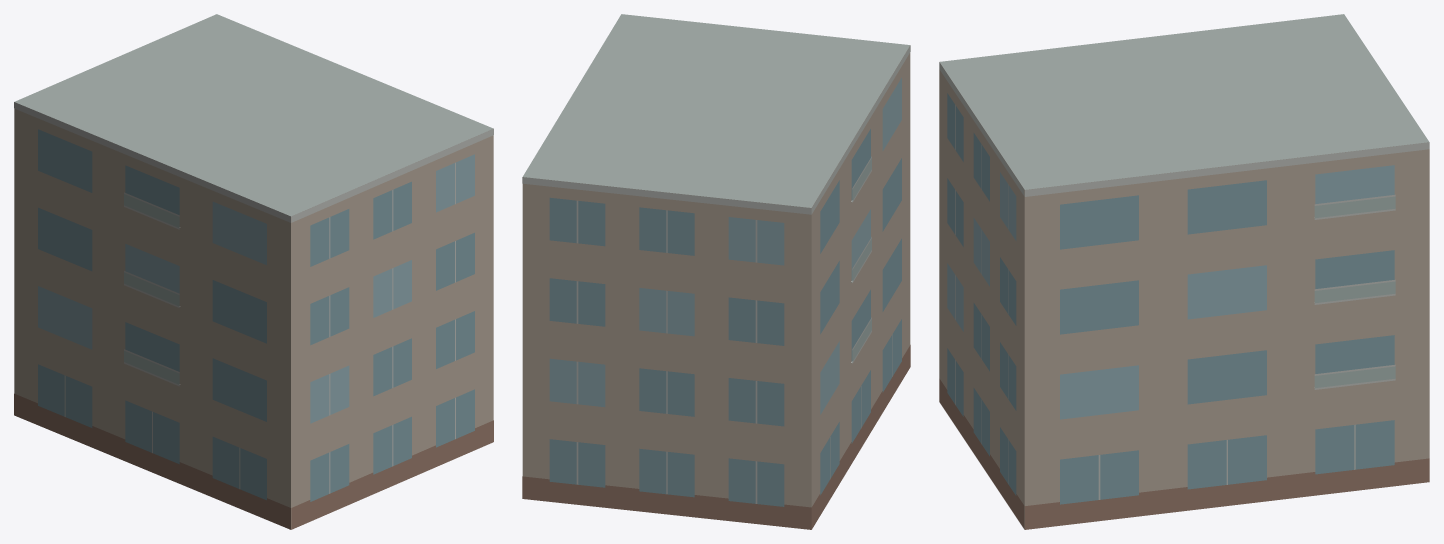
File: survey-upis-32924952.glb
The picture shows the model from 3 angles, left to right: view 1: azimuth 30°, elevation 25°; view 2: azimuth 150°, elevation 25°; view 3: azimuth 270°, elevation 25°; orthographic projection. The views are drawn at different scales.
Visible parts, largest first — view 1: survey-upis-32924952.tmp; view 2: survey-upis-32924952.tmp; view 3: survey-upis-32924952.tmp.
Boxes of the visible parts, x1,y1,x2,y2 form: survey-upis-32924952.tmp: (14, 14, 493, 529); survey-upis-32924952.tmp: (522, 14, 910, 529); survey-upis-32924952.tmp: (939, 14, 1429, 529).
Bounding box in the file's own units: 13 × 11.7 × 15.3.
